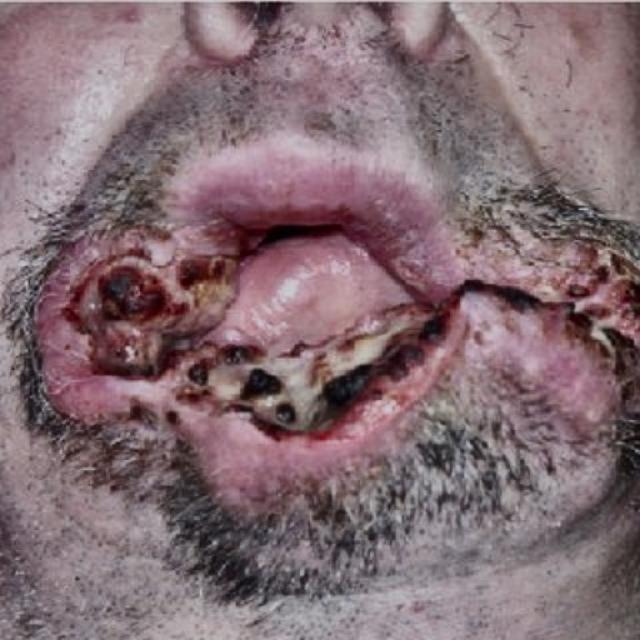cancer-detection: (62, 244, 639, 443)
processing_area: (35, 155, 639, 496)
